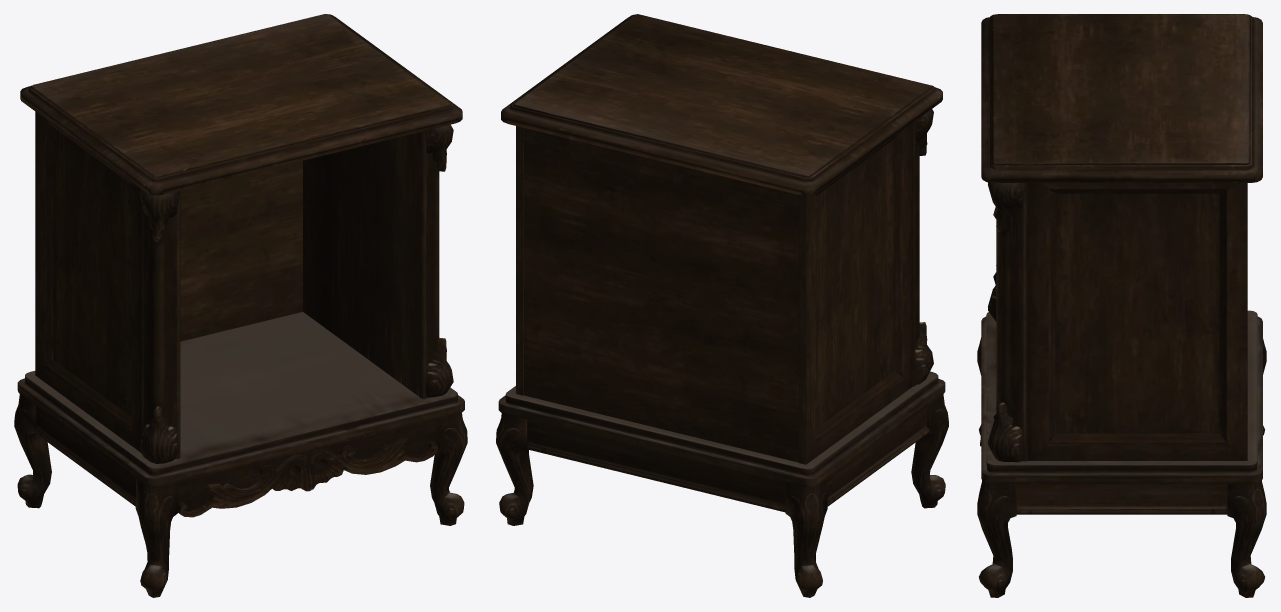
The model's file is ClassicNightstand_01.glb.
3 views of the same model, side by side, from view 1: azimuth 30°, elevation 25°; view 2: azimuth 150°, elevation 25°; view 3: azimuth 270°, elevation 25° (orthographic). The views are drawn at different scales.
Parts seen in each view (by area): view 1: ClassicNightstand_01; view 2: ClassicNightstand_01; view 3: ClassicNightstand_01.
Part boxes in pixels (<box>): ClassicNightstand_01: <box>14,14,467,597</box>; ClassicNightstand_01: <box>496,14,948,597</box>; ClassicNightstand_01: <box>977,14,1266,597</box>.
Size of the model in its own units: 0.5678 by 0.7 by 0.4242.
1 material, 1 textured.
